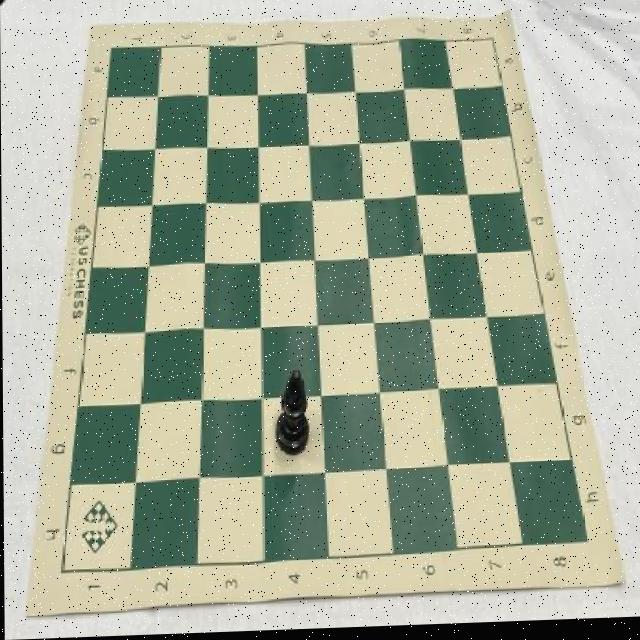bishop: (274, 373, 310, 460)
